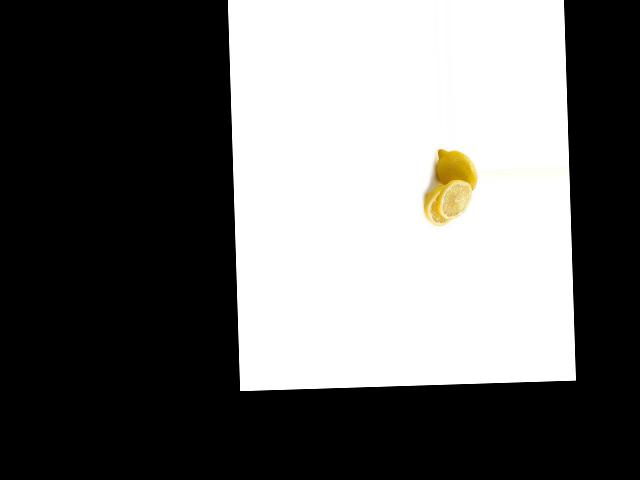lemon: (432, 143, 478, 195)
